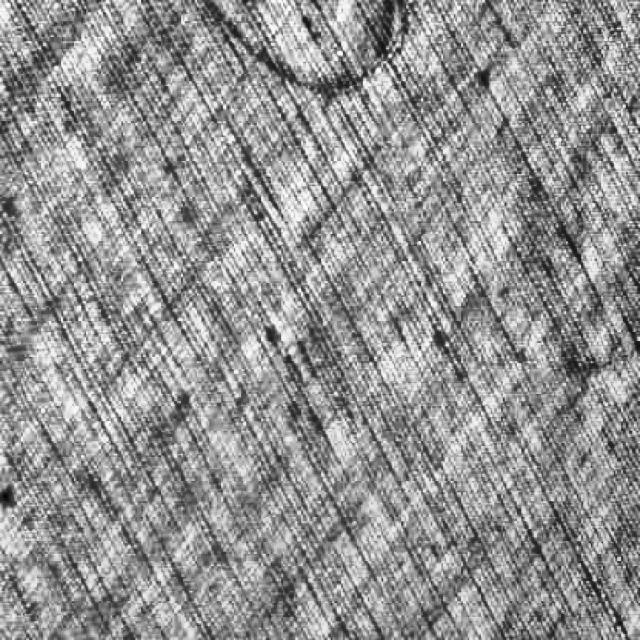thread_error: (201, 2, 431, 106)
